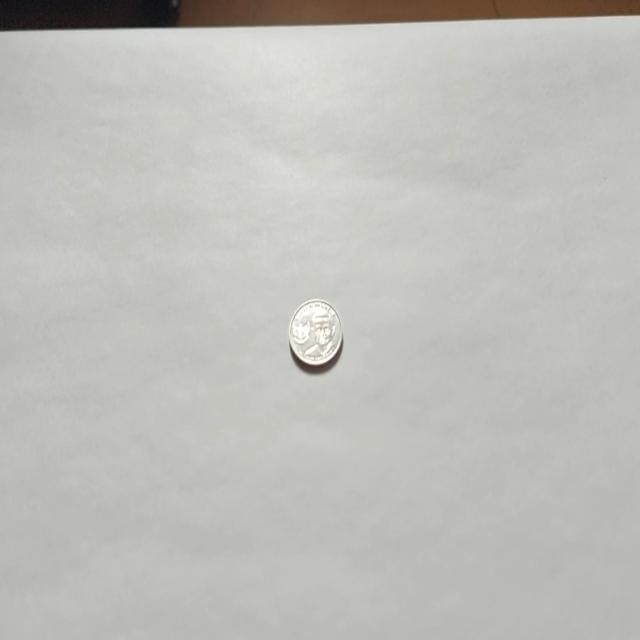seribu rupiah koin: (288, 297, 342, 368)
